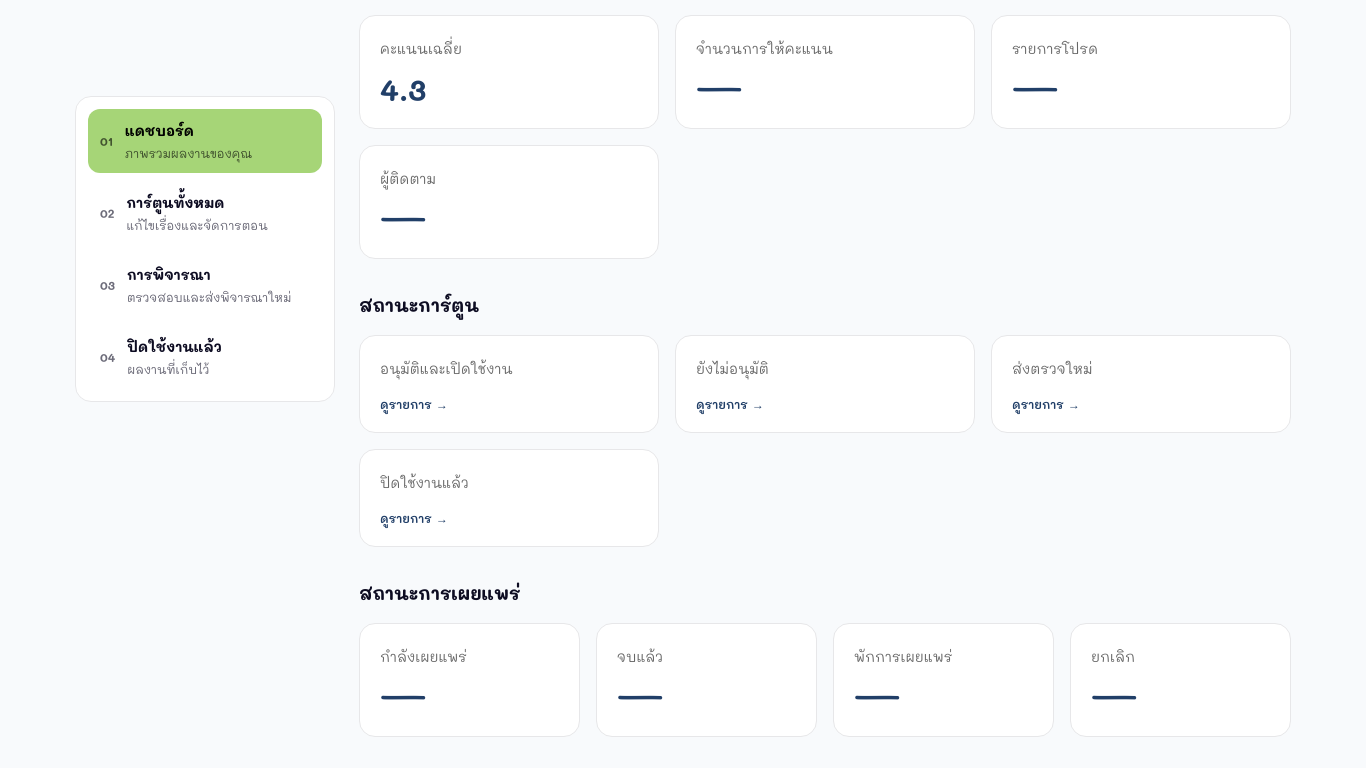
Test: creator dashboard navigates between active, review and inactive lists
The image size is (1366, 768).
(page scrolled)
Click the button "อนุมัติและเปิดใช้งาน ดูรายการ →". click: click(446, 368)
box: [359,335,659,433]
(page scrolled)
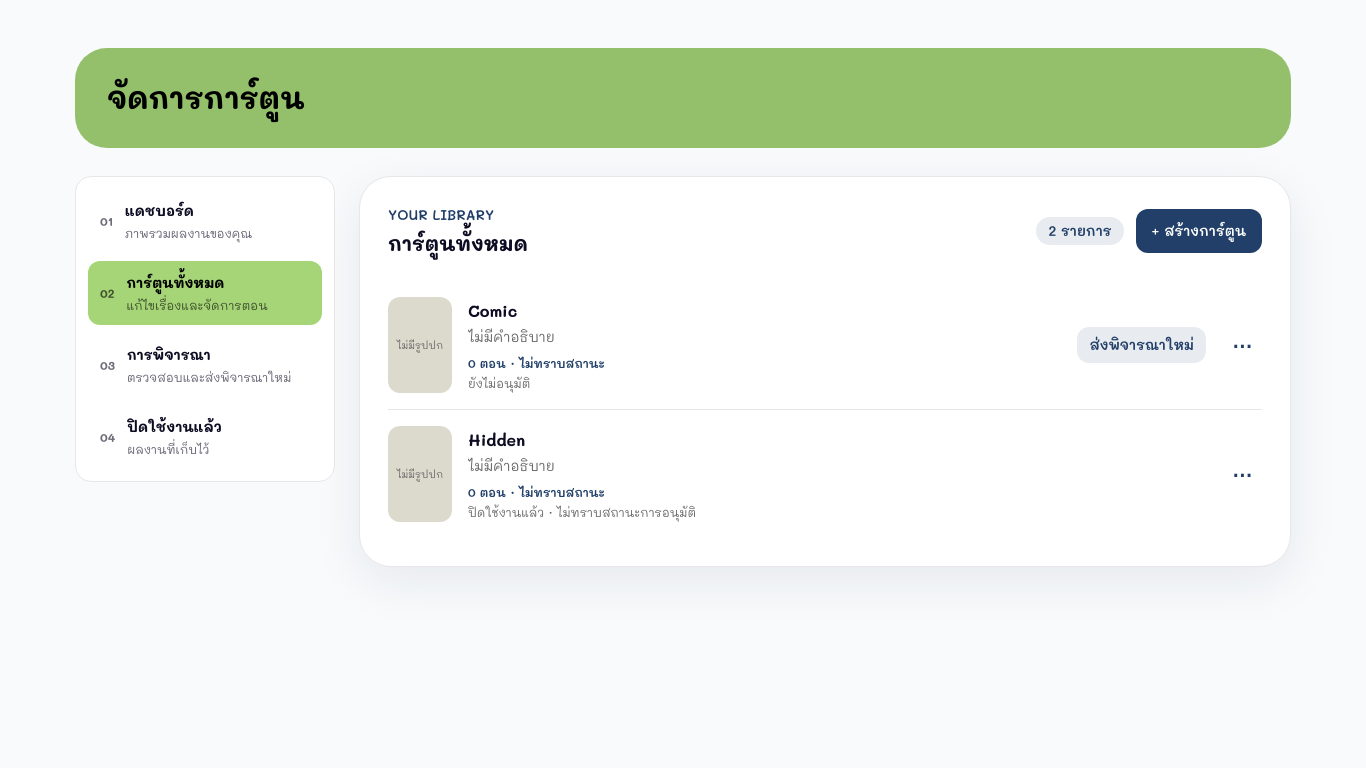
Click the button "03 การพิจารณา ตรวจสอบและส่งพิจารณาใหม่". click: click(205, 365)
box: [88,333,322,397]
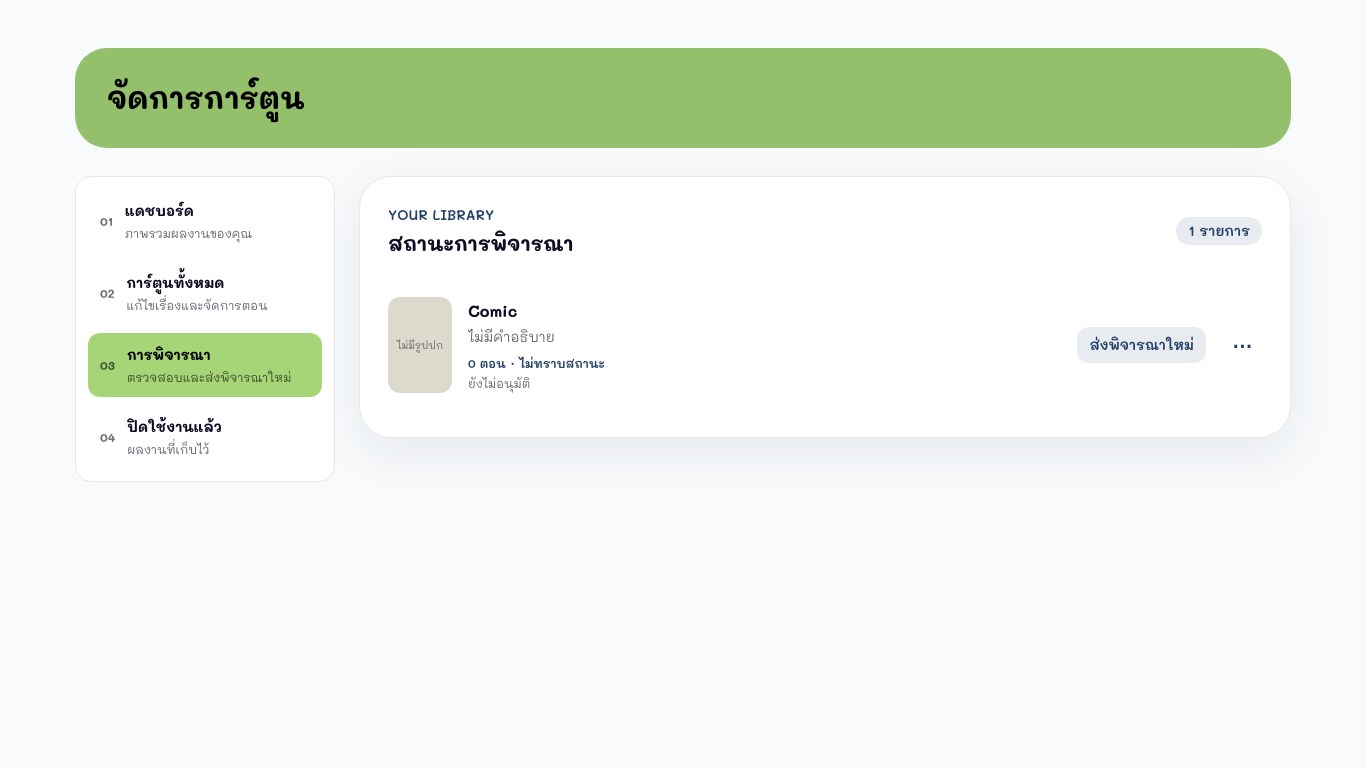
Expected: the element that starts with "ไม่มีรูปปก" shows "Comic", [468,299,1062,391]
Click the button "04 ปิดใช้งานแล้ว ผลงานที่เก็บไว้". click: click(205, 437)
box: [88,405,322,469]
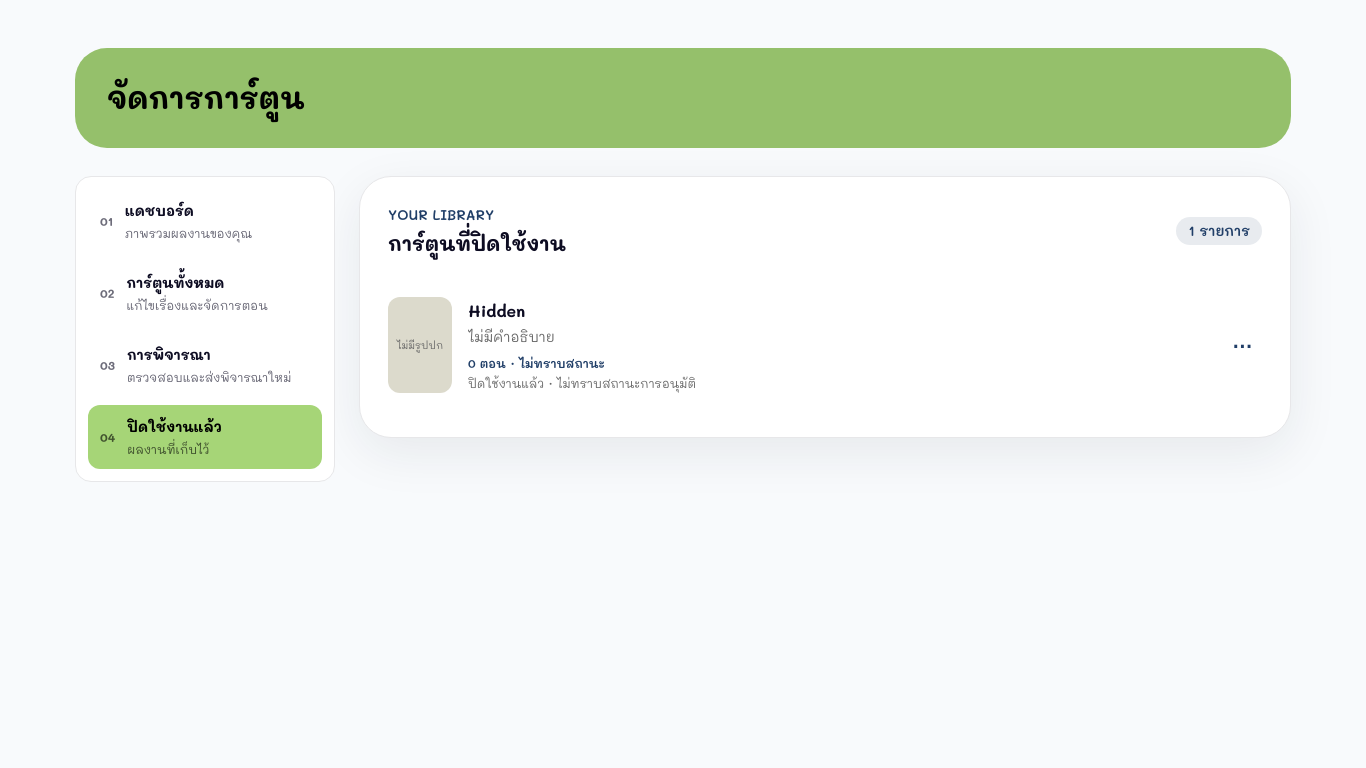
Expected: the element that starts with "ไม่มีรูปปก" shows "Hidden", [468,299,1206,391]
